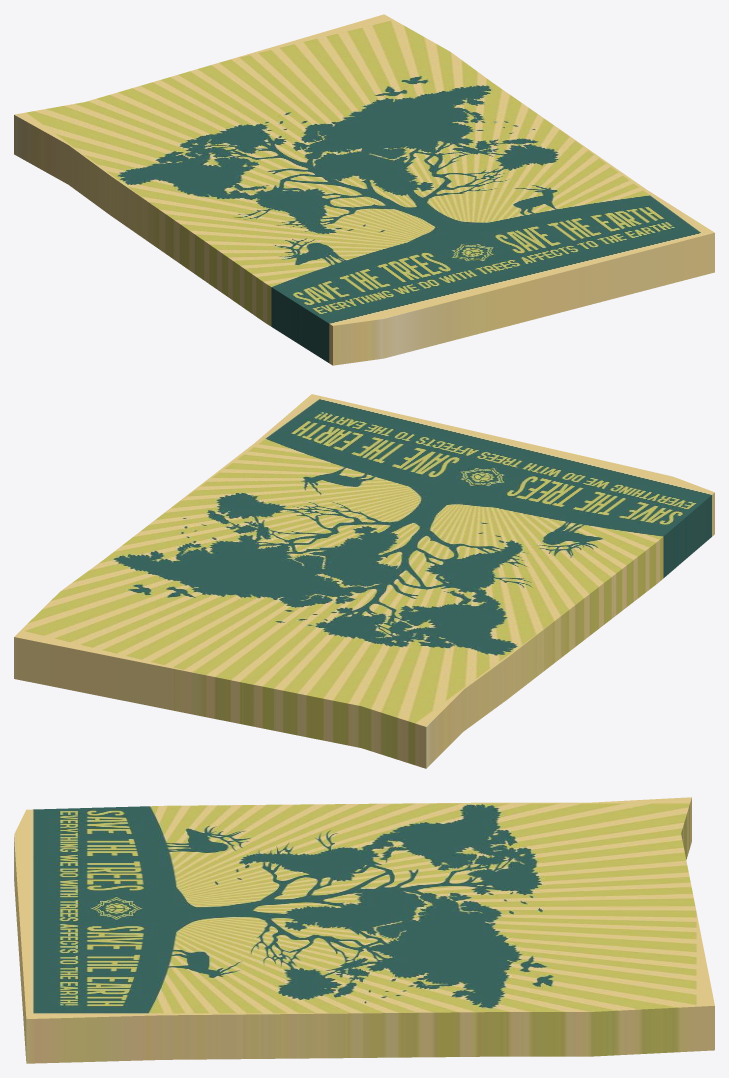
File: Poster_1.fbx
3 renders of one model, top to bottom at view 1: azimuth 30°, elevation 25°; view 2: azimuth 150°, elevation 25°; view 3: azimuth 270°, elevation 25°, orthographic. The views are drawn at different scales.
Visible parts, largest first — view 1: pCube3; view 2: pCube3; view 3: pCube3.
Part boxes in pixels (x1,y1,x2,y2): pCube3: (14,14,714,365); pCube3: (14,394,714,768); pCube3: (14,797,714,1063).
Bounding box in the file's own units: 10.66 × 1 × 14.24.
